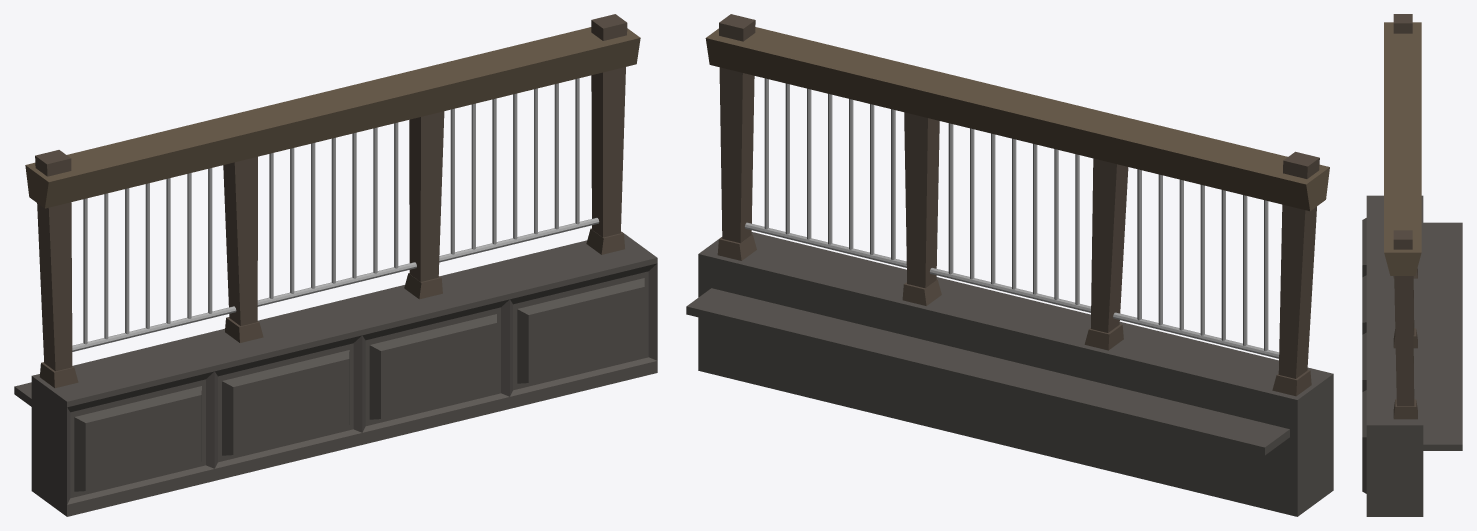
Rendered from bancone_banca2.fbx.
The picture shows the model from 3 angles, left to right: view 1: azimuth 30°, elevation 25°; view 2: azimuth 150°, elevation 25°; view 3: azimuth 270°, elevation 25°; orthographic projection. The views are drawn at different scales.
Parts seen in each view (by area): view 1: MSH_bancone_banca2; view 2: MSH_bancone_banca2; view 3: MSH_bancone_banca2.
Boxes of the visible parts, box(x1,y1,x2,y2) form: MSH_bancone_banca2: box(14, 14, 657, 516); MSH_bancone_banca2: box(686, 14, 1333, 516); MSH_bancone_banca2: box(1362, 14, 1462, 516).
Size of the model in its own units: 89.52 by 48.82 by 16.34.
